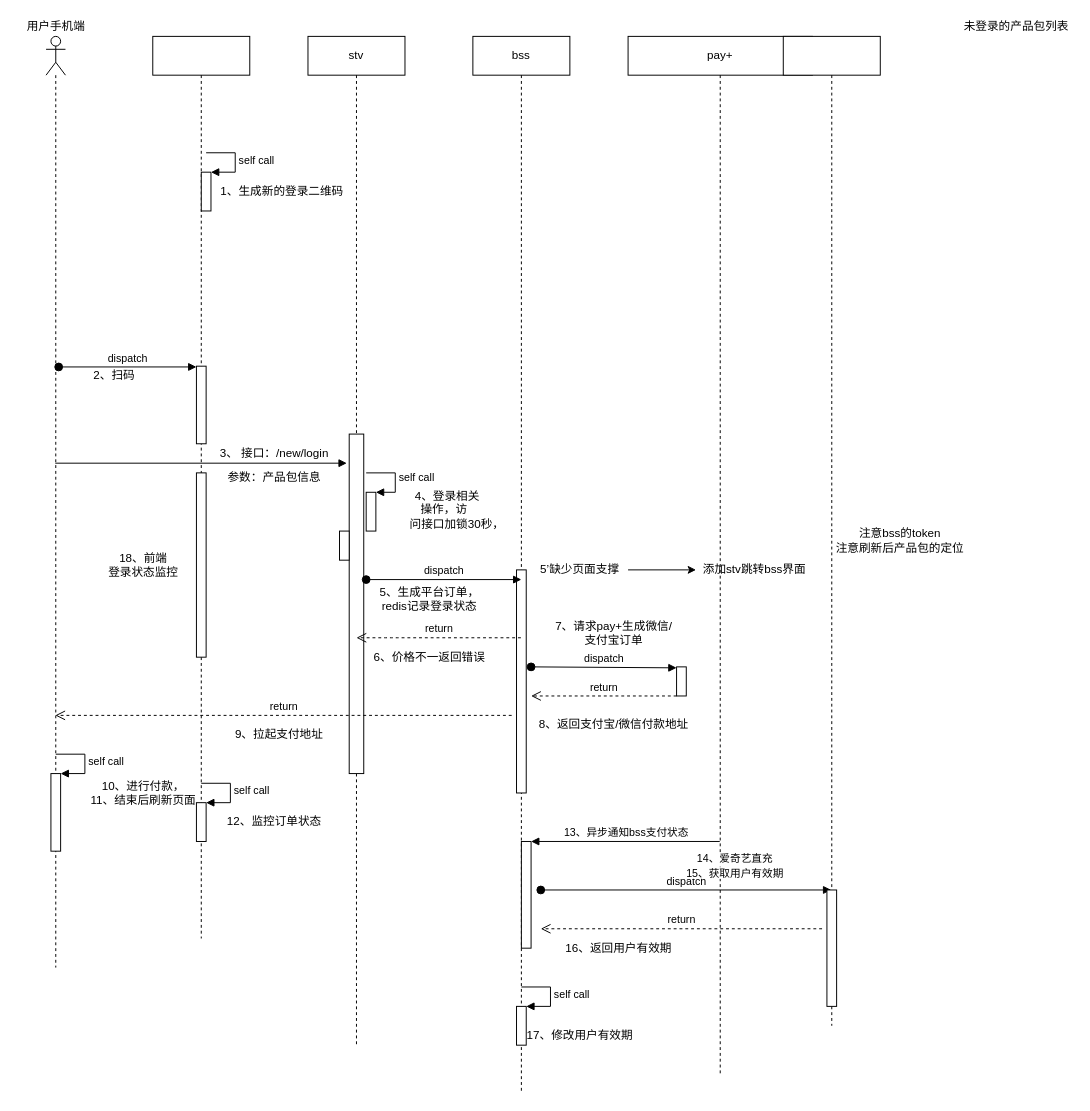
Image size: 1090x1111. Some labels were removed from this diagram. The box of each missing label's shape, as (x1, y1, x2, y2) in pixels:
客户端: (152, 35, 250, 938)
爱奇艺: (782, 35, 880, 1026)
